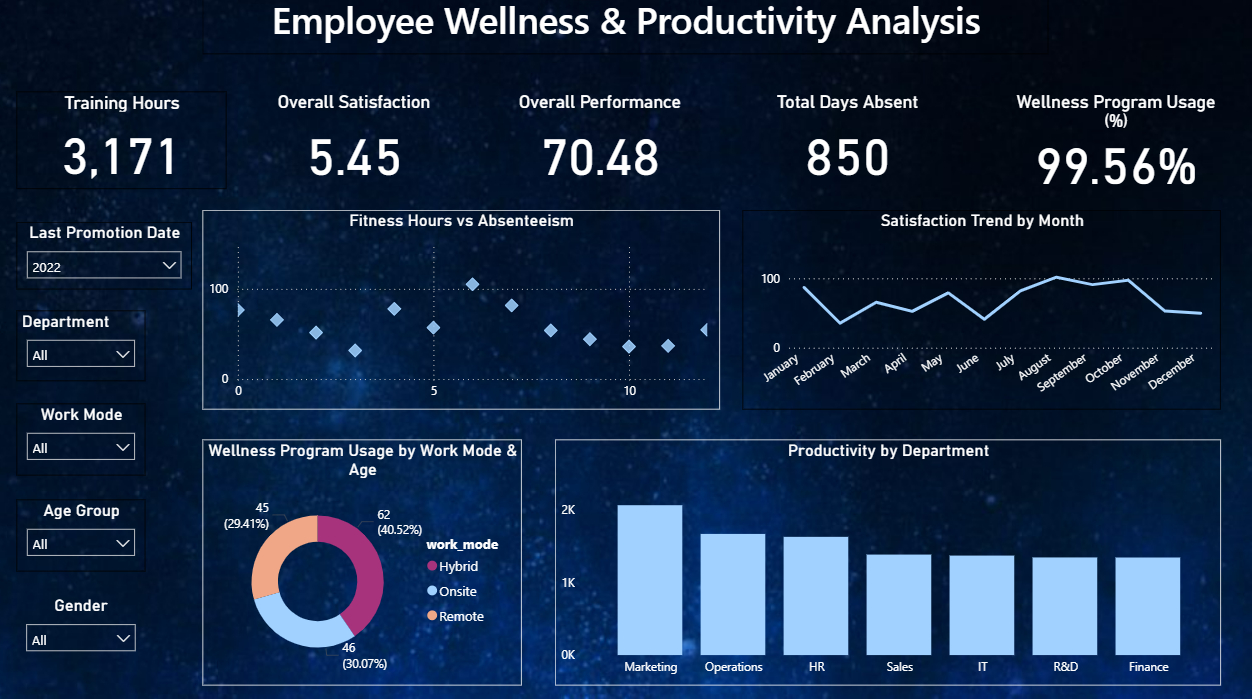

The dashboard page shown, as its layout file describes it:
{"tool":"powerbi","page":{"name":"Page 3","canvas":[1280,720],"ordinal":0},"visuals":[{"type":"textbox","title":"Employee Wellness &  Productivity Analysis","box":[209.4,0,862.2,61.1],"z":0},{"type":"card","title":" Training Hours","fields":{"Values":["Sum(EmployeeWellness.training_hours)"]},"box":[19.9,99.4,214,99.4],"z":1000},{"type":"card","title":"Overall Satisfaction","fields":{"Values":["Avg(EmployeeWellness.satisfaction_level)"]},"box":[256.8,99.4,214,99.4],"z":2000},{"type":"card","title":"Overall Performance","fields":{"Values":["Avg(EmployeeWellness.productivity_score)"]},"box":[507.5,99.4,214,99.4],"z":3000},{"type":"card","title":"Total Days Absent","fields":{"Values":["Sum(EmployeeWellness.absenteeism_days)"]},"box":[759.7,99.4,214,99.4],"z":4000},{"type":"card","title":"Wellness Program Usage (%)","fields":{"Values":["Min(EmployeeWellness.% Employees Using Wellness Programs Text)"]},"box":[1033.4,99.4,214,99.4],"z":5000},{"type":"slicer","title":"Department","fields":{"Values":["EmployeeWellness.department"]},"box":[19.9,322.5,131.5,71.8],"z":6000},{"type":"slicer","title":"Gender","fields":{"Values":["EmployeeWellness.gender"]},"box":[19.9,613,131.5,73.4],"z":7000},{"type":"slicer","title":"Age Group","fields":{"Values":["EmployeeWellness.age_group"]},"box":[19.9,515.2,131.5,73.4],"z":8000},{"type":"slicer","title":"Work Mode","fields":{"Values":["EmployeeWellness.work_mode"]},"box":[19.9,417.3,131.5,73.4],"z":9000},{"type":"columnChart","title":"Productivity by Department","fields":{"Category":["EmployeeWellness.department"],"Y":["Sum(EmployeeWellness.productivity_score)"]},"box":[568.7,454,678.7,250.7],"z":10000},{"type":"scatterChart","title":"Fitness Hours vs Absenteeism","fields":{"Y":["Sum(EmployeeWellness.fitness_activity_hours)"],"X":["EmployeeWellness.absenteeism_days"]},"box":[209.4,220.1,527.4,203.3],"z":11000},{"type":"lineChart","title":"Satisfaction Trend by Month","fields":{"Y":["Sum(EmployeeWellness.satisfaction_level)"],"Category":["EmployeeWellness.last_promotion_date.Variation.Date Hierarchy.Month"]},"box":[759.7,220.1,487.6,203.3],"z":12000},{"type":"donutChart","title":"Wellness Program Usage by Work Mode & Age","fields":{"Y":["CountNonNull(EmployeeWellness.% Employees Using Wellness Programs Text)"],"Category":["EmployeeWellness.work_mode","EmployeeWellness.age_group"]},"box":[209.4,454,325.6,250.7],"z":13000},{"type":"slicer","title":"Last Promotion Date","fields":{"Values":["EmployeeWellness.last_promotion_date.Variation.Date Hierarchy.Year","EmployeeWellness.last_promotion_date.Variation.Date Hierarchy.Quarter","EmployeeWellness.last_promotion_date.Variation.Date Hierarchy.Month"]},"box":[19.9,232.4,178.9,68.8],"z":14000}]}

Visuals, with their boxes in screenshot pixels (x1, y1, x2, y2), scaled from the page's 1280x720 canvas onto the 1252x699 screenshot:
"Employee Wellness &  Productivity Analysis" textbox: [205, 0, 1048, 59]
" Training Hours" card: [19, 97, 229, 193]
"Overall Satisfaction" card: [251, 97, 461, 193]
"Overall Performance" card: [496, 97, 706, 193]
"Total Days Absent" card: [743, 97, 952, 193]
"Wellness Program Usage (%)" card: [1011, 97, 1220, 193]
"Department" slicer: [19, 313, 148, 383]
"Gender" slicer: [19, 595, 148, 666]
"Age Group" slicer: [19, 500, 148, 571]
"Work Mode" slicer: [19, 405, 148, 476]
"Productivity by Department" columnChart: [556, 441, 1220, 684]
"Fitness Hours vs Absenteeism" scatterChart: [205, 214, 721, 411]
"Satisfaction Trend by Month" lineChart: [743, 214, 1220, 411]
"Wellness Program Usage by Work Mode & Age" donutChart: [205, 441, 523, 684]
"Last Promotion Date" slicer: [19, 226, 194, 292]
